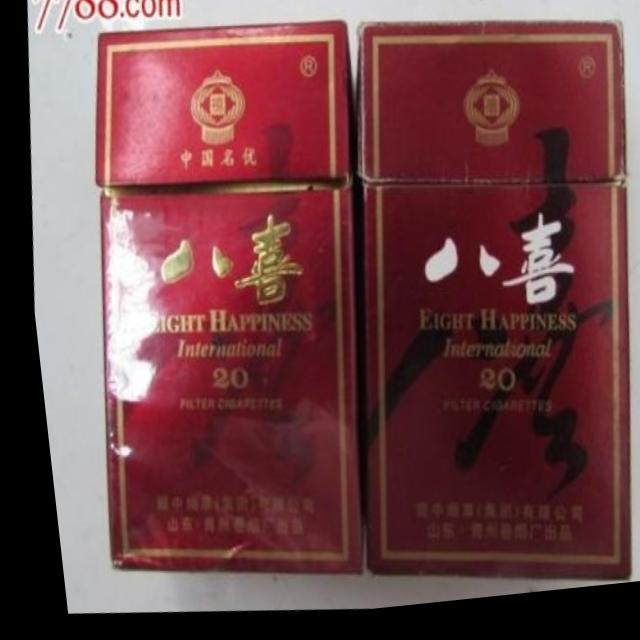box: (351, 26, 622, 591), (91, 29, 360, 582)
